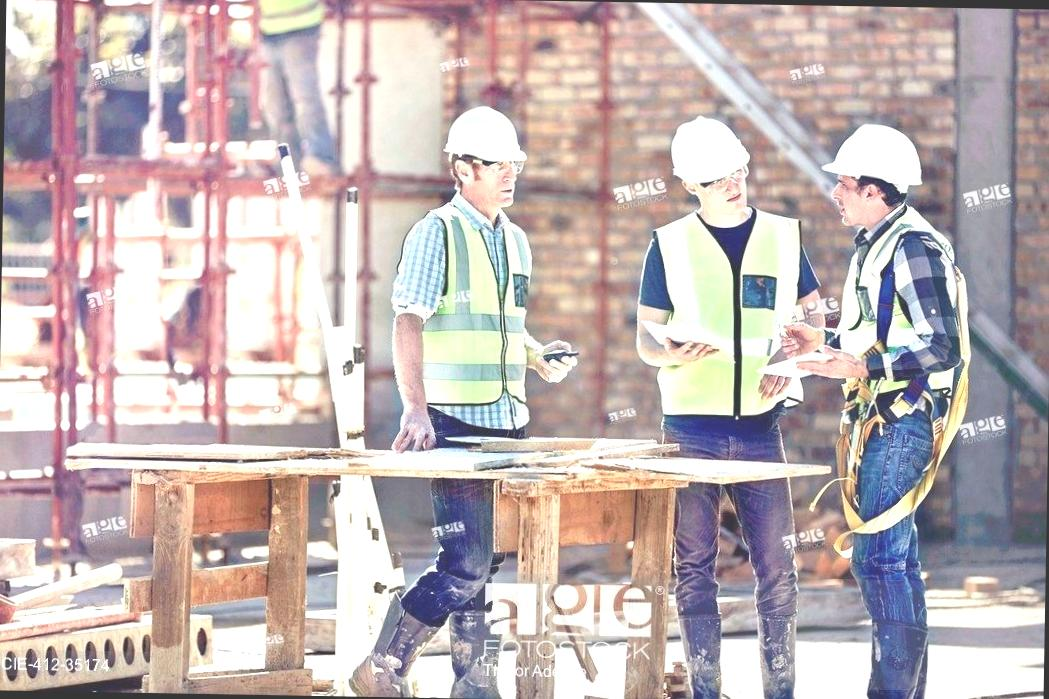helmet: (824, 123, 931, 185), (667, 112, 750, 188), (444, 105, 533, 170)
person: (371, 98, 597, 699), (623, 102, 845, 699), (801, 108, 987, 699)
